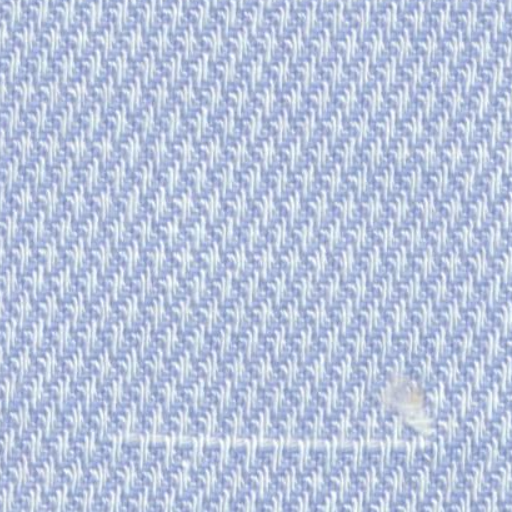DaiSha: (104, 390, 444, 478)
